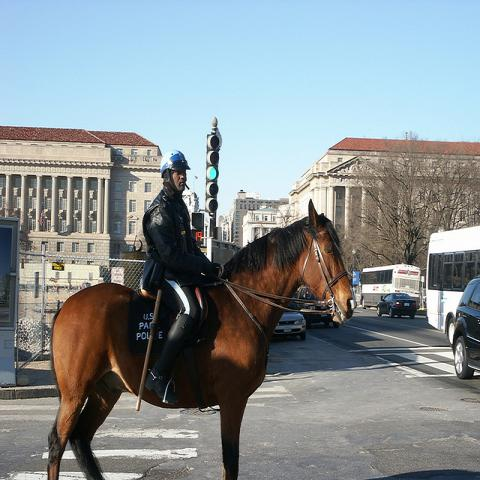bus: (427, 225, 479, 352), (360, 264, 422, 310)
car: (453, 277, 479, 383), (298, 288, 339, 330), (377, 293, 417, 319), (272, 312, 307, 341)
